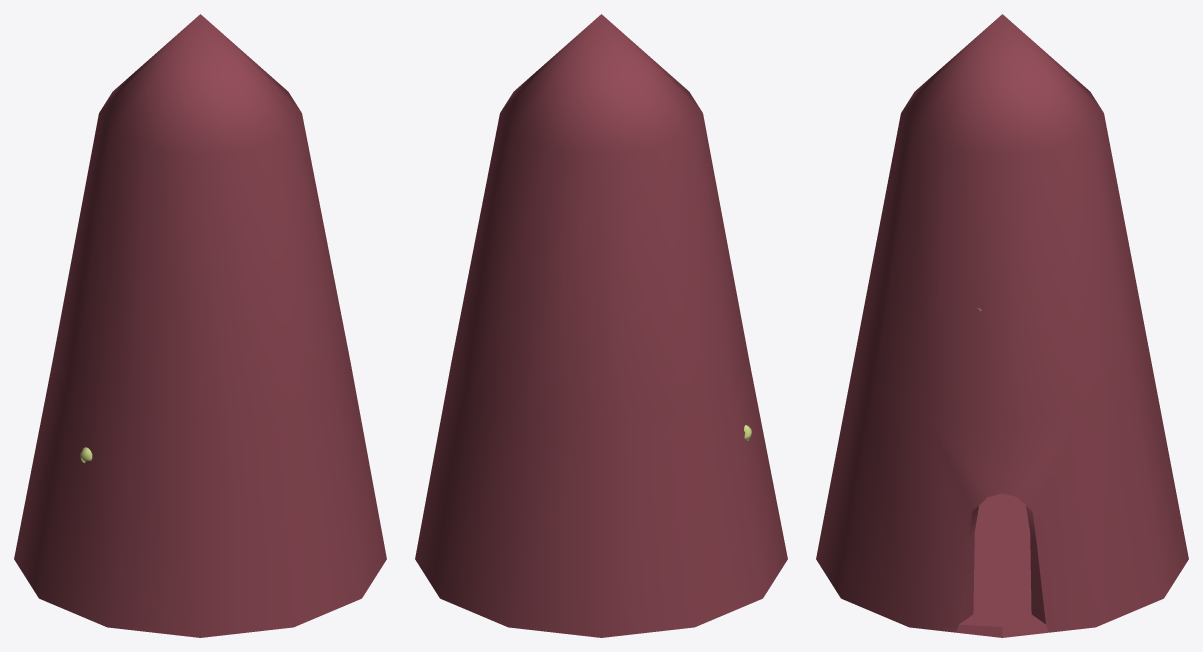
Rendered from Taller_Greda_estaticos.fbx.
3 renders of one model, left to right at view 1: azimuth 30°, elevation 25°; view 2: azimuth 150°, elevation 25°; view 3: azimuth 270°, elevation 25°, orthographic.
Parts seen in each view (by area): view 1: estructura_taller; view 2: estructura_taller; view 3: estructura_taller.
Boxes of the visible parts, box(x1,y1,x2,y2) form: estructura_taller: box(14, 14, 386, 637); estructura_taller: box(415, 14, 787, 637); estructura_taller: box(816, 14, 1188, 637).
Size of the model in its own units: 18.03 by 18.03 by 29.07.
